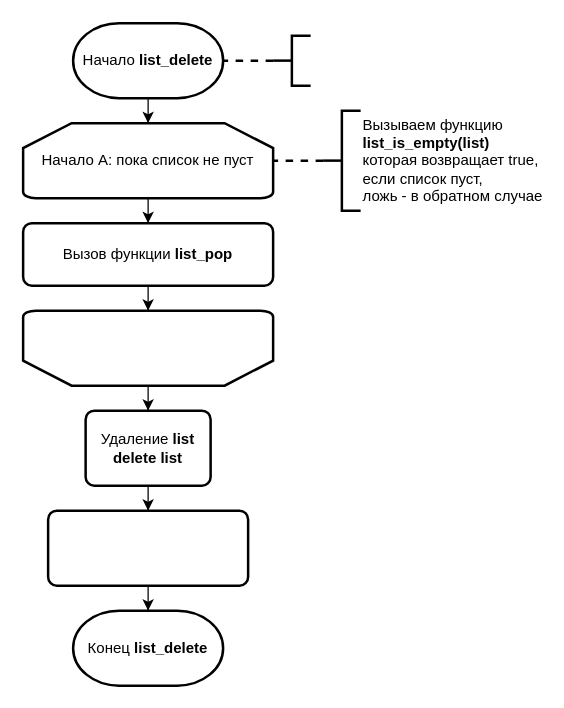
Image size: 564x708. Some labels were removed from this diagram. Each missing label, with the centre of its shape:
"list - список" goes at point (291, 60).
"Конец А" goes at point (147, 347).
"Обнуление адреса списка list = NULL" goes at point (147, 547).
